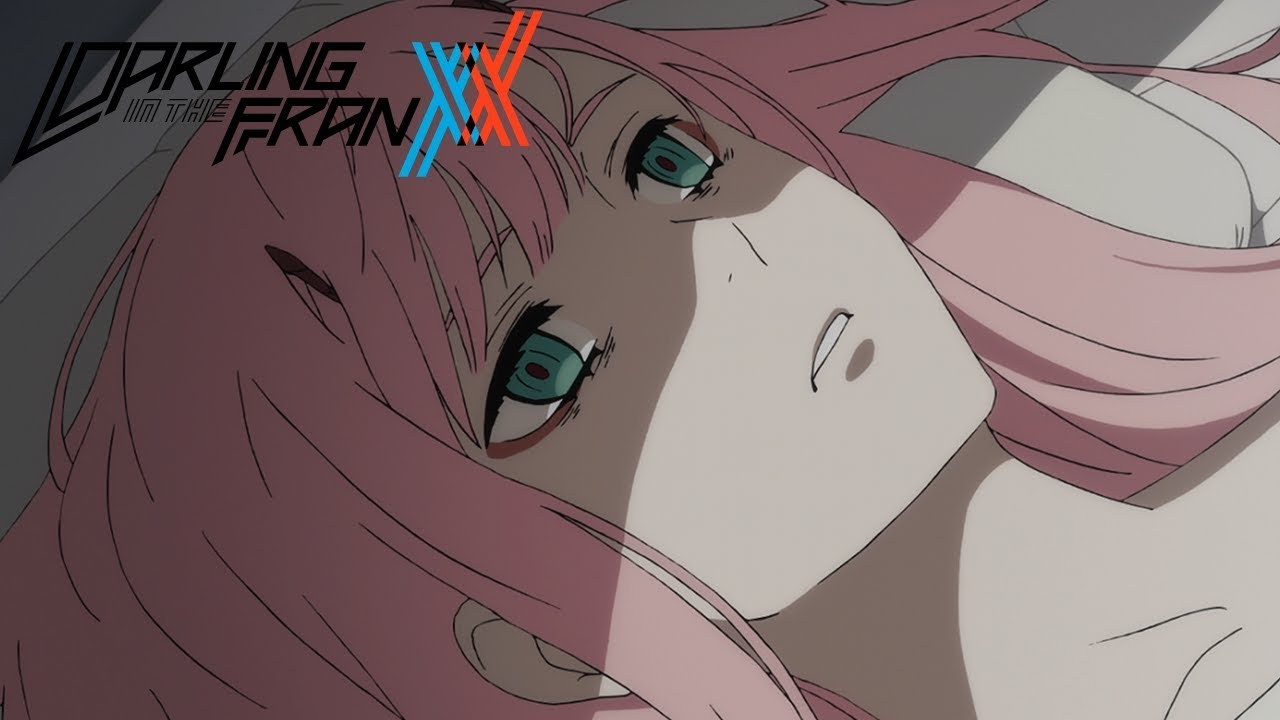zeroTwo: (134, 3, 1023, 650)
